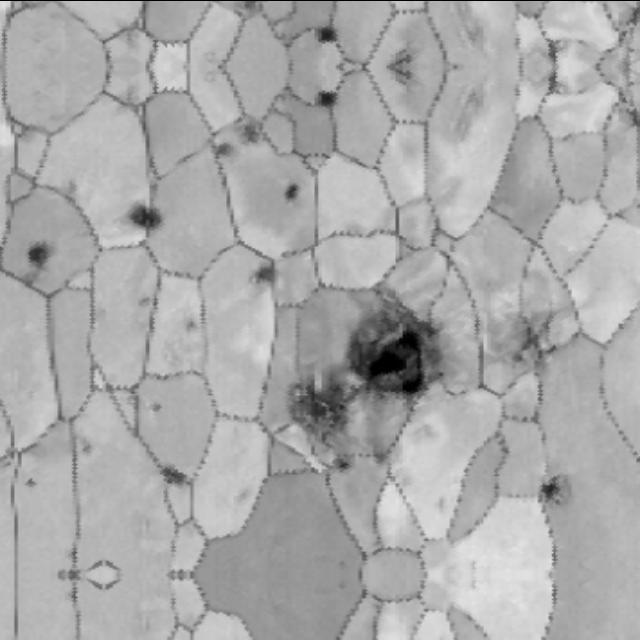good_void: (336, 297, 443, 403), (272, 372, 362, 484), (492, 292, 567, 389), (528, 472, 568, 509), (20, 235, 53, 278), (126, 203, 165, 229), (158, 461, 200, 485), (247, 257, 278, 285), (59, 170, 80, 197), (117, 85, 139, 109), (117, 21, 139, 45), (283, 174, 300, 201), (241, 120, 262, 141), (181, 313, 203, 333), (387, 65, 410, 83), (387, 47, 410, 65), (131, 291, 150, 310), (213, 139, 234, 156), (148, 392, 163, 412), (79, 437, 93, 456), (312, 90, 329, 105), (312, 25, 329, 40), (241, 0, 262, 10), (23, 468, 33, 488)
